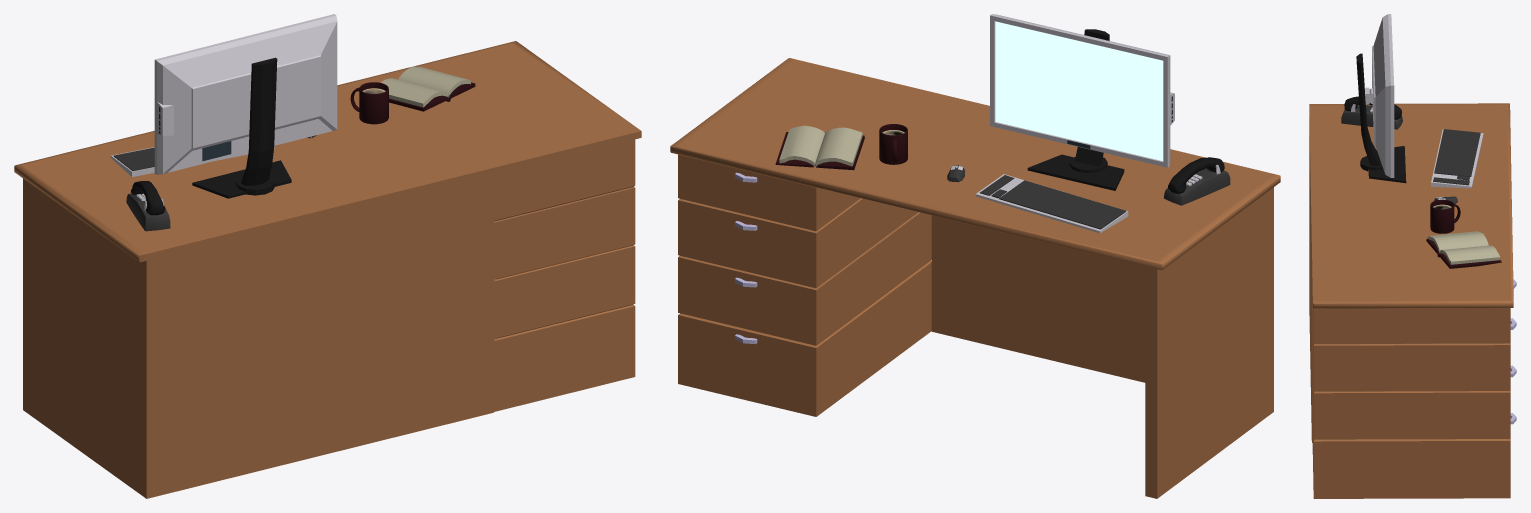
The model's file is desk1.glb.
3 renders of one model, left to right at view 1: azimuth 30°, elevation 25°; view 2: azimuth 150°, elevation 25°; view 3: azimuth 270°, elevation 25°, orthographic. The views are drawn at different scales.
Visible parts, largest first — view 1: Desk.003_266.007, Cube.074_259.007, Monitor_01.005_264.007, Textured_333.007, curve3.008_262.007, Mug1.001_332.007, Keyboard.003_263.007; view 2: Desk.003_266.007, Cube.074_259.007, Monitor_01.005_264.007, Keyboard.003_263.007, Textured_333.007, curve3.008_262.007, Mug1.001_332.007; view 3: Cube.074_259.007, Desk.003_266.007, Monitor_01.005_264.007, Keyboard.003_263.007, Textured_333.007, Mug1.001_332.007, curve3.008_262.007.
Boxes of the visible parts, <box> form: Desk.003_266.007: <box>14,41,641,498</box>; Cube.074_259.007: <box>494,139,635,411</box>; Monitor_01.005_264.007: <box>154,14,337,198</box>; Textured_333.007: <box>381,66,475,111</box>; curve3.008_262.007: <box>126,181,170,231</box>; Mug1.001_332.007: <box>350,82,388,124</box>; Keyboard.003_263.007: <box>110,146,274,176</box>; Desk.003_266.007: <box>670,58,1280,498</box>; Cube.074_259.007: <box>678,154,931,416</box>; Monitor_01.005_264.007: <box>990,14,1174,190</box>; Keyboard.003_263.007: <box>975,174,1128,233</box>; Textured_333.007: <box>775,125,864,170</box>; curve3.008_262.007: <box>1164,157,1230,205</box>; Mug1.001_332.007: <box>879,124,907,164</box>; Cube.074_259.007: <box>1312,301,1510,498</box>; Desk.003_266.007: <box>1309,103,1513,442</box>; Monitor_01.005_264.007: <box>1356,14,1406,183</box>; Keyboard.003_263.007: <box>1431,129,1483,188</box>; Textured_333.007: <box>1426,231,1501,268</box>; Mug1.001_332.007: <box>1430,199,1460,233</box>; curve3.008_262.007: <box>1341,96,1402,129</box>.
Bounding box in the file's own units: 1.56 × 1.14 × 0.6824.
Materials: 11 (1 with a texture image).
